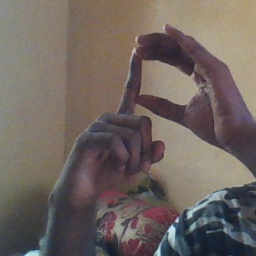P: (86, 20, 232, 175)
